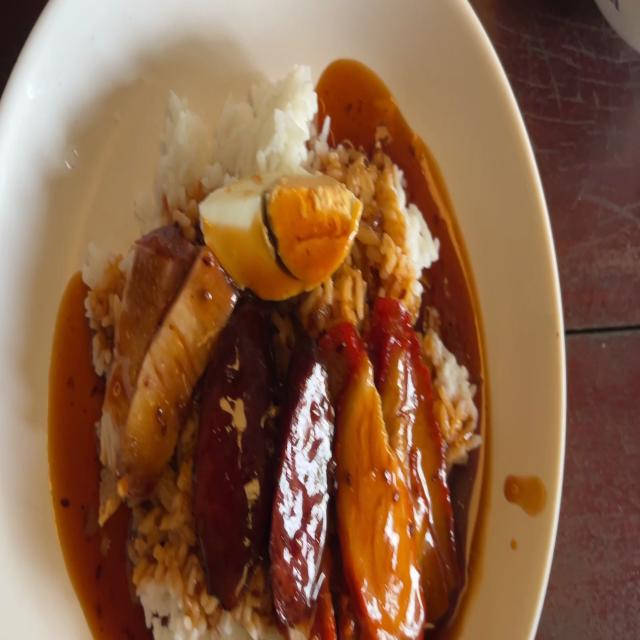01boiled_egg: (200, 174, 360, 290)
01chainese_sausage: (206, 316, 332, 602), (198, 327, 280, 580), (268, 352, 334, 615)
01crispy_pork: (101, 227, 222, 460), (95, 238, 179, 451), (131, 265, 224, 455)
01red_pork: (332, 307, 454, 640), (336, 320, 421, 638), (381, 306, 450, 598)
01red_pork_and_crispy_pork: (81, 64, 479, 640)
01rice: (132, 487, 206, 640), (237, 55, 323, 168), (368, 161, 431, 300), (159, 96, 219, 206)
